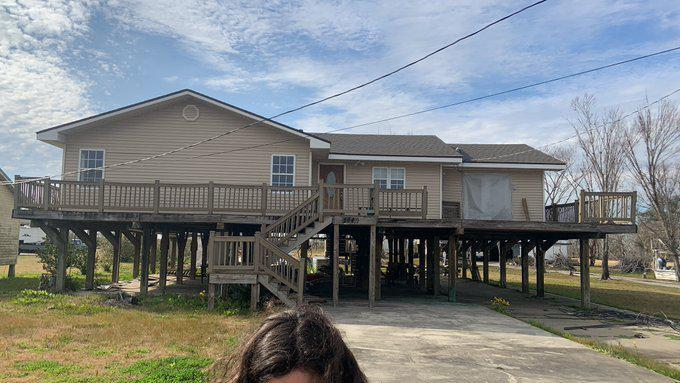affected: (5, 88, 646, 312)
